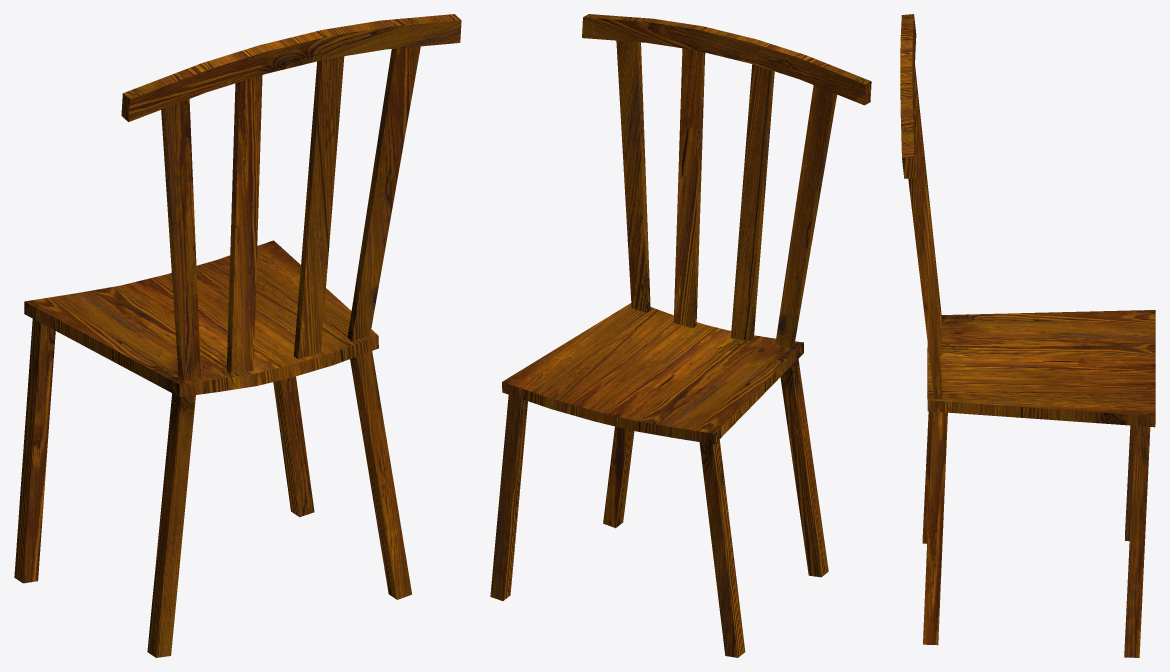
Rendered from WoodenChair.fbx.
The picture shows the model from 3 angles, left to right: view 1: azimuth 30°, elevation 25°; view 2: azimuth 150°, elevation 25°; view 3: azimuth 270°, elevation 25°; orthographic projection. The views are drawn at different scales.
Parts seen in each view (by area): view 1: WoodenChair; view 2: WoodenChair; view 3: WoodenChair.
Part boxes in pixels (x1,y1,x2,y2): WoodenChair: (14,14,461,657); WoodenChair: (490,14,871,657); WoodenChair: (900,14,1155,657).
Bounding box in the file's own units: 44.16 × 76.39 × 33.63.
Materials: 1 (1 with a texture image).
